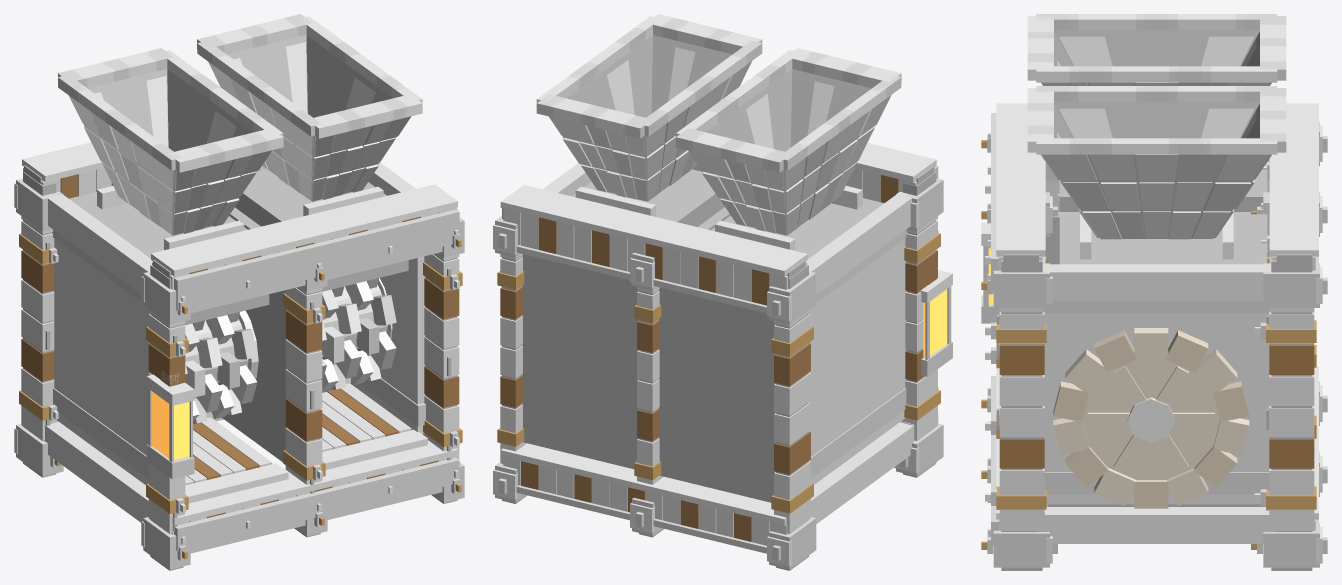
File: crusher.gltf
The picture shows the model from 3 angles, left to right: view 1: azimuth 30°, elevation 25°; view 2: azimuth 150°, elevation 25°; view 3: azimuth 270°, elevation 25°; orthographic projection. The views are drawn at different scales.
Size of the model in its own units: 0.9915 by 1.23 by 0.925.
